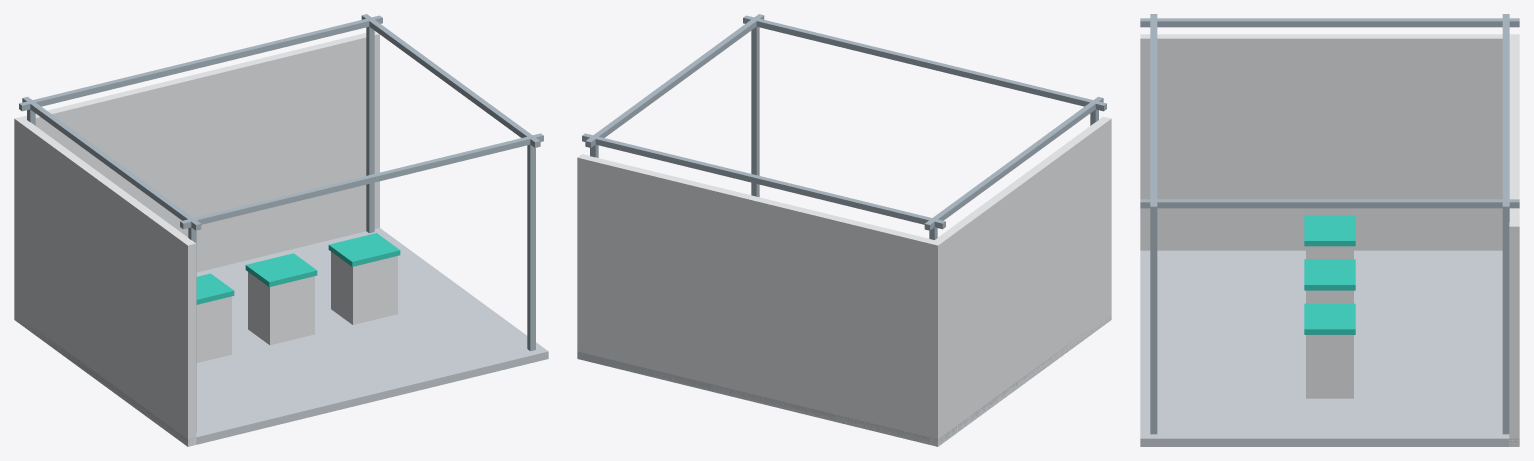
3 views of the same model, side by side, from view 1: azimuth 30°, elevation 25°; view 2: azimuth 150°, elevation 25°; view 3: azimuth 270°, elevation 25° (orthographic). The views are drawn at different scales.
Parts seen in each view (by area): view 1: Exhibition Booth Concept; view 2: Exhibition Booth Concept; view 3: Exhibition Booth Concept.
Part boxes in pixels (<box>): Exhibition Booth Concept: <box>14,14,548,446</box>; Exhibition Booth Concept: <box>577,14,1111,446</box>; Exhibition Booth Concept: <box>1140,14,1519,446</box>.
Bounding box in the file's own units: 6 × 3.49 × 5.
